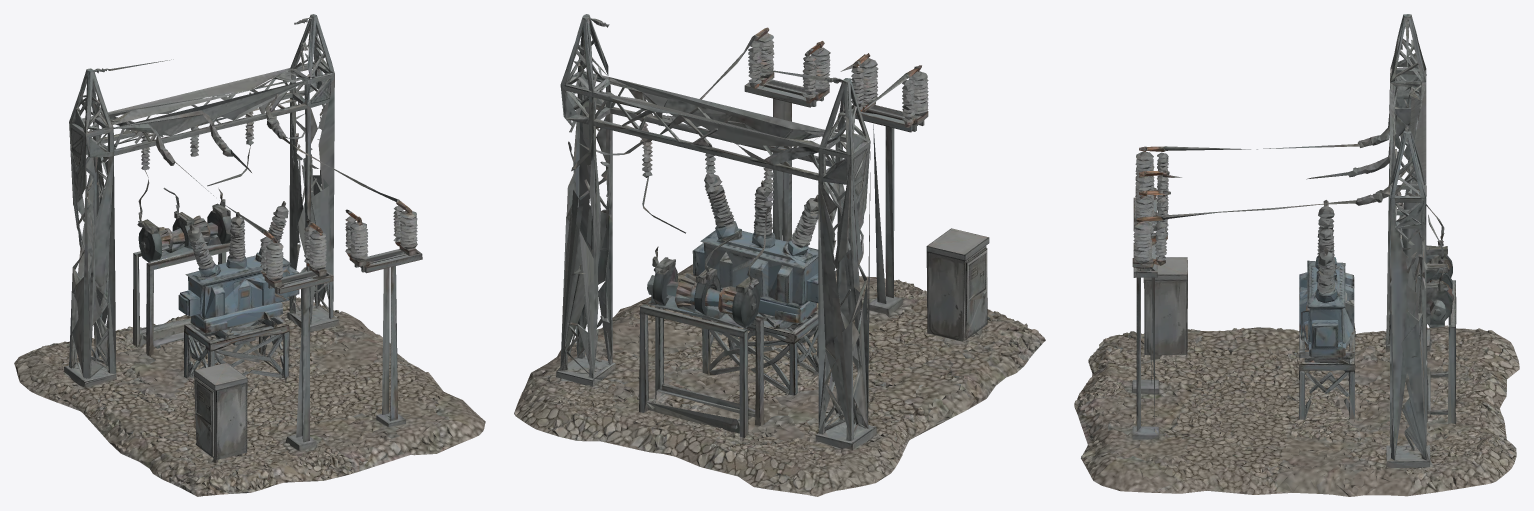
Rendered from cb_bay.glb.
The picture shows the model from 3 angles, left to right: view 1: azimuth 30°, elevation 25°; view 2: azimuth 150°, elevation 25°; view 3: azimuth 270°, elevation 25°; orthographic projection. The views are drawn at different scales.
Bounding box in the file's own units: 1.68 × 1.6 × 1.89.
Materials: 1 (1 with a texture image).
